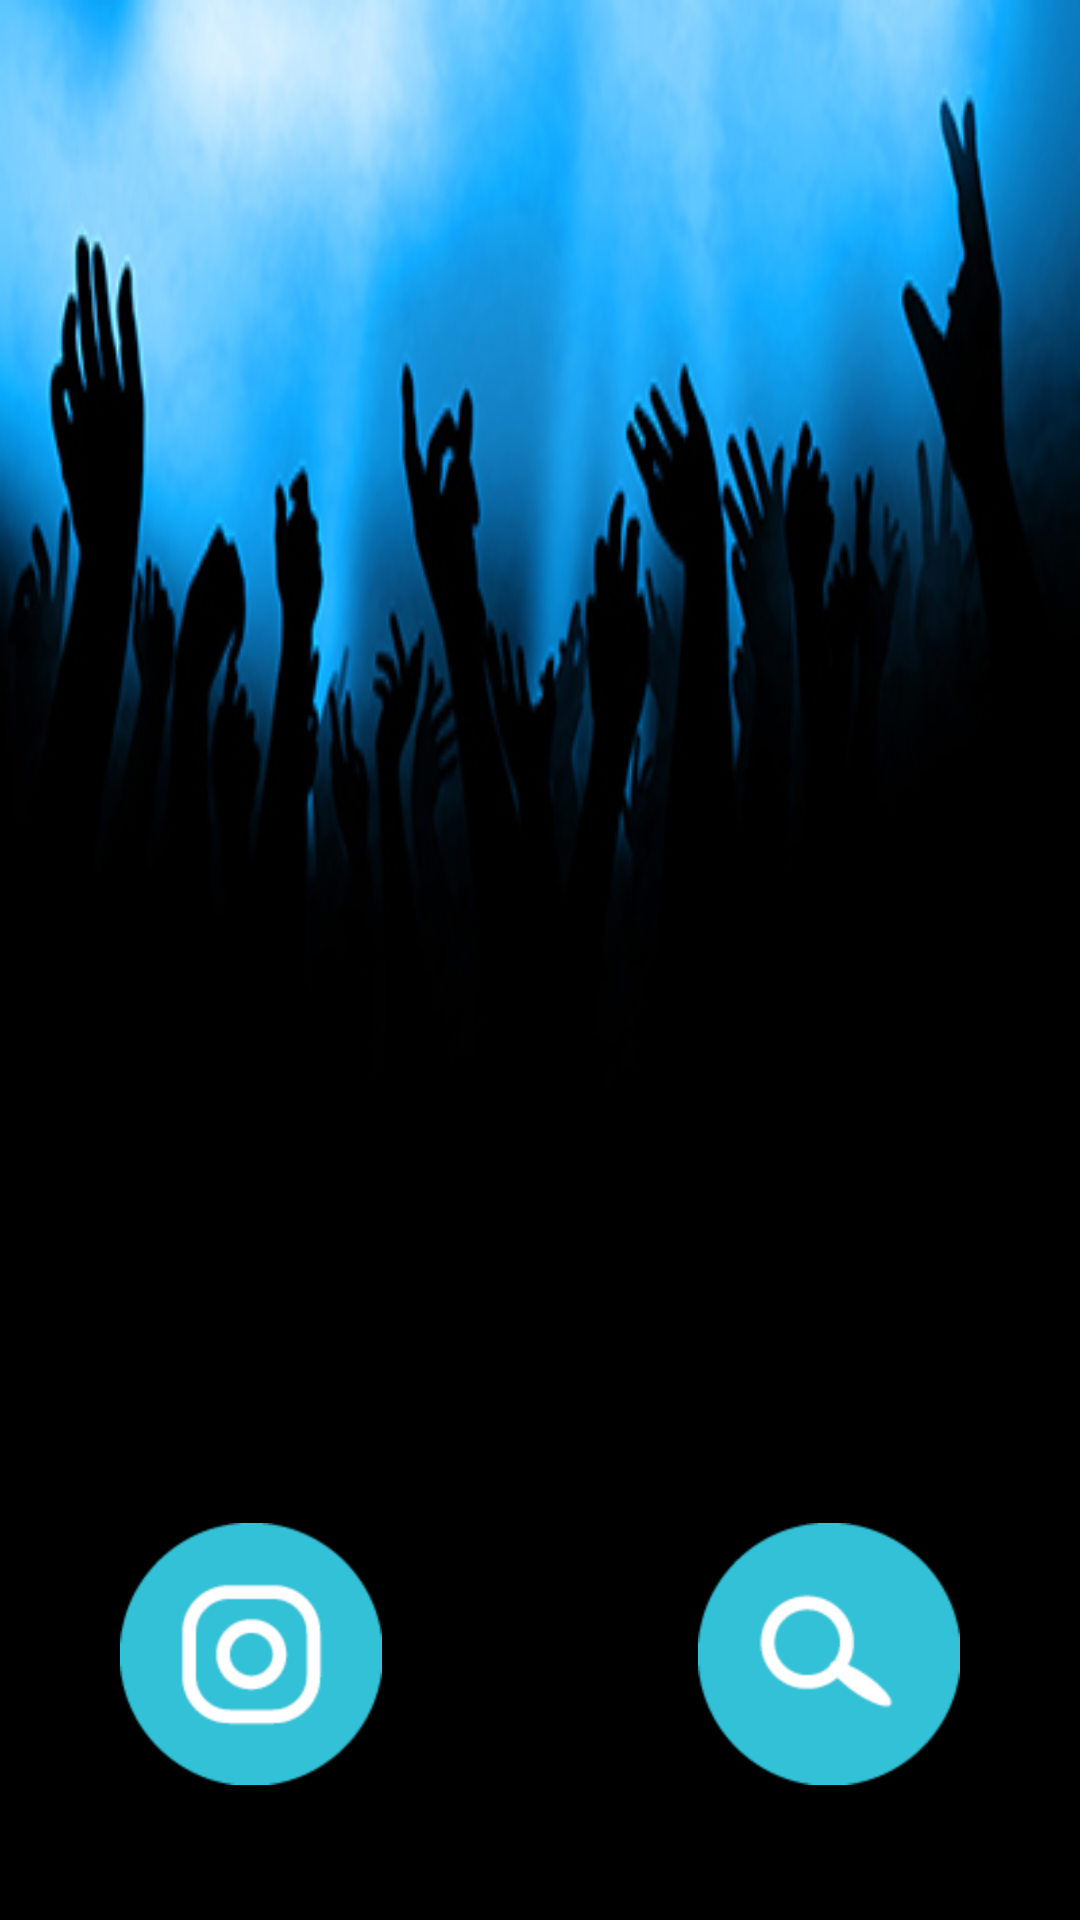

Screen size 1080w x 1920h. Icon name, then its center in pixels as [x,y]:
camerabutton: [251,1654]
searchbutton: [829,1654]
